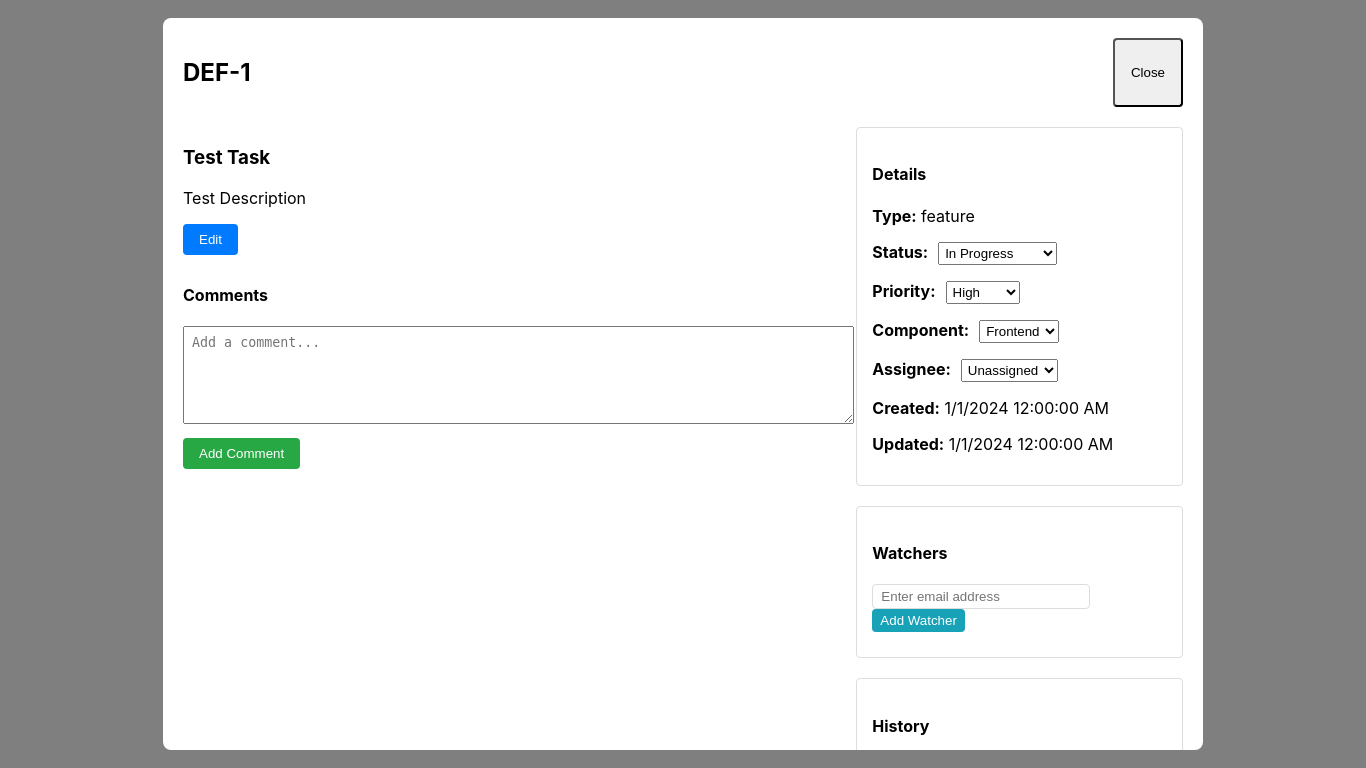
Test: TaskDetail Component › shows error for invalid email
Type "invalid-email" into the field with placeholder "Enter email address" at [981, 597], box x1=872 y1=584 x2=1090 y2=609
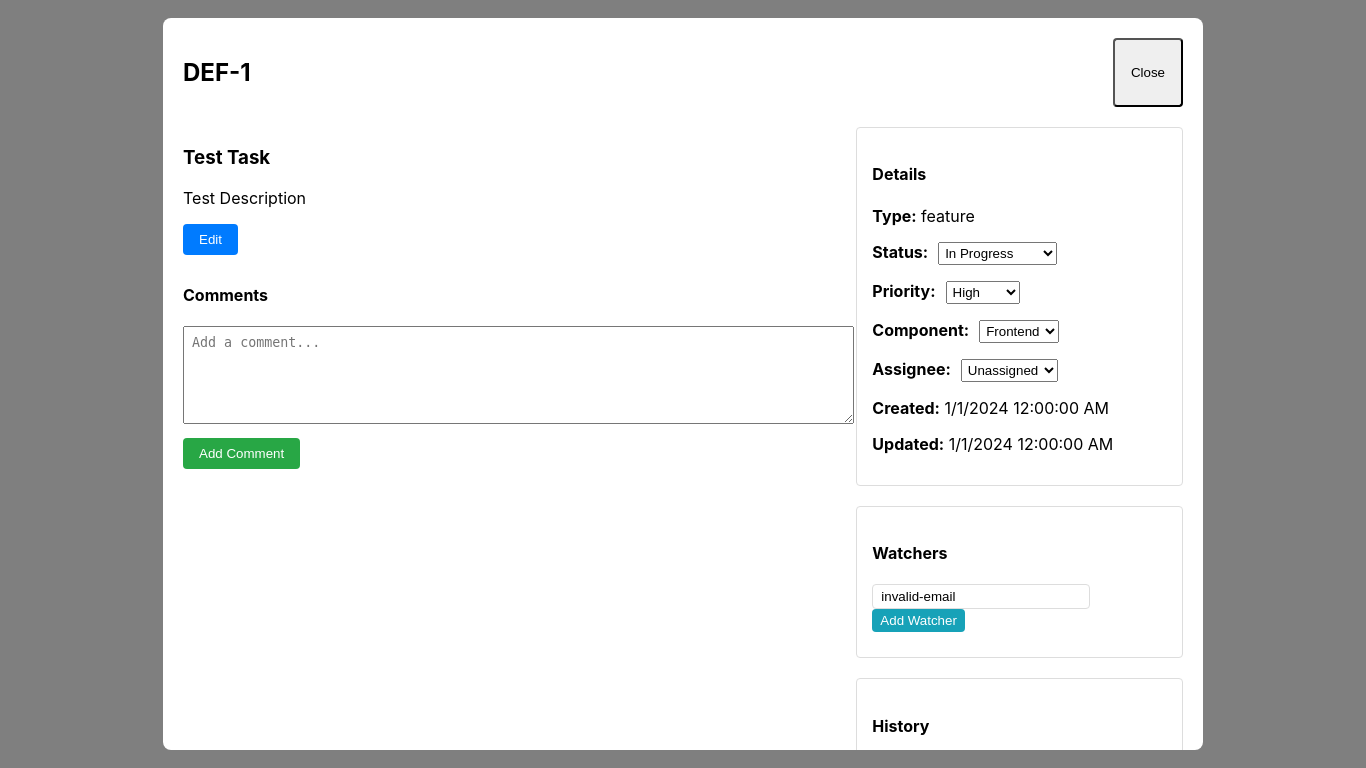
Click the button "Add Watcher" at [919, 621], box x1=872 y1=609 x2=965 y2=632
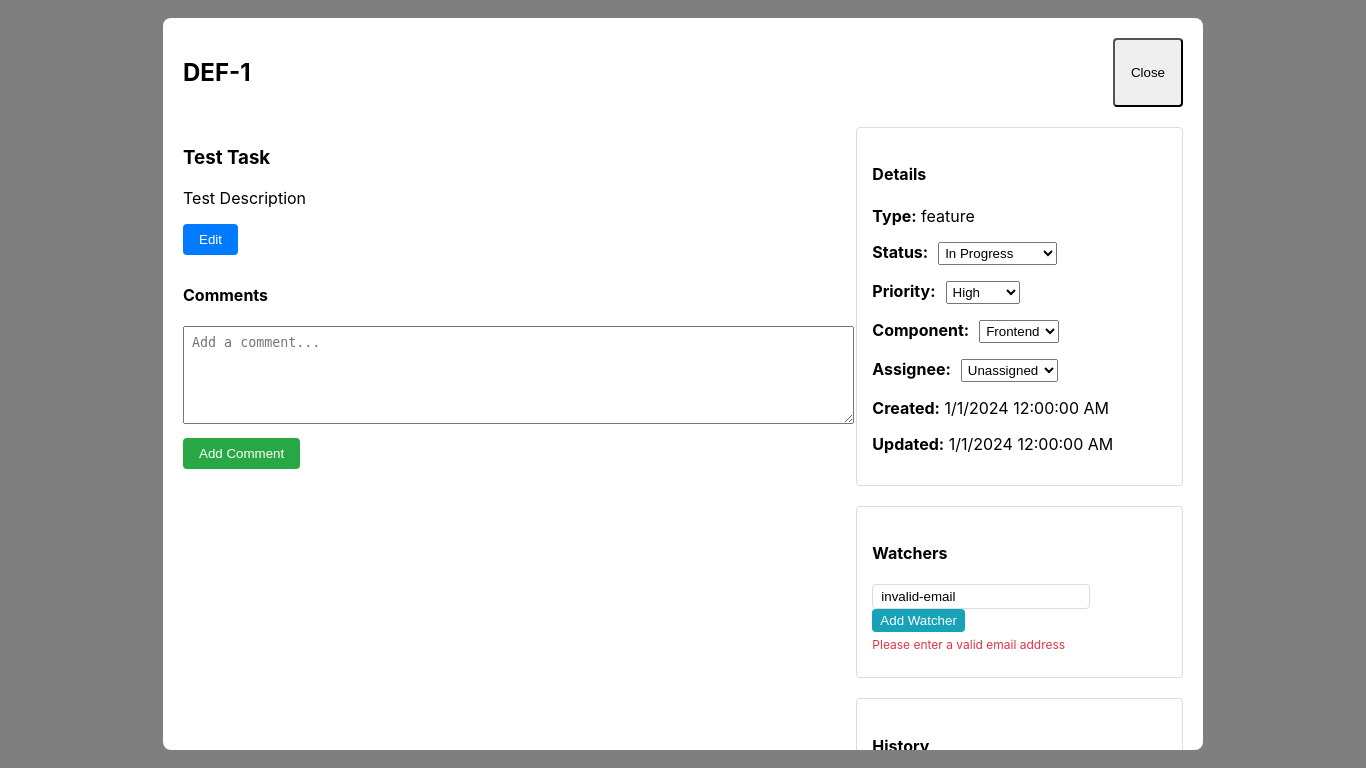
Expected: the text "Please enter a valid email address" is shown, x1=872 y1=637 x2=1065 y2=652
